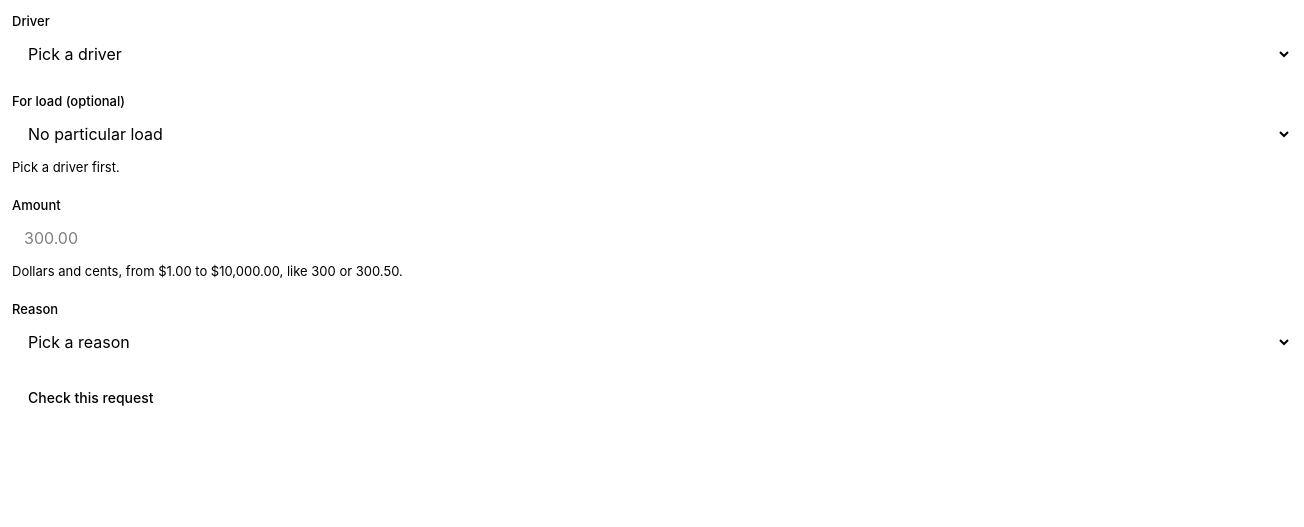
Test: sending an advance request › stays on the form with a plain sentence when the request is refused, and shows no toast
Select "BR-D01, Ann Example" in the dropdown labelled "Driver" at (652, 54), box [12,36,1292,72]
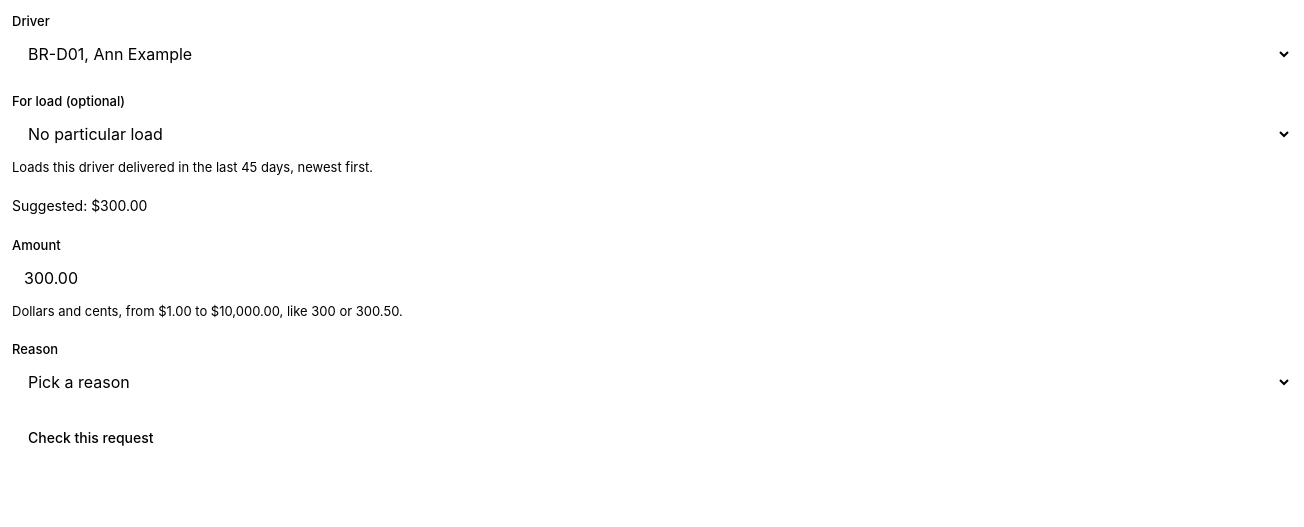
Check: the field labelled "Amount" holds "300.00", box [12,260,1292,296]
Select "Fuel" in the dropdown labelled "Reason" at (652, 382), box [12,364,1292,400]
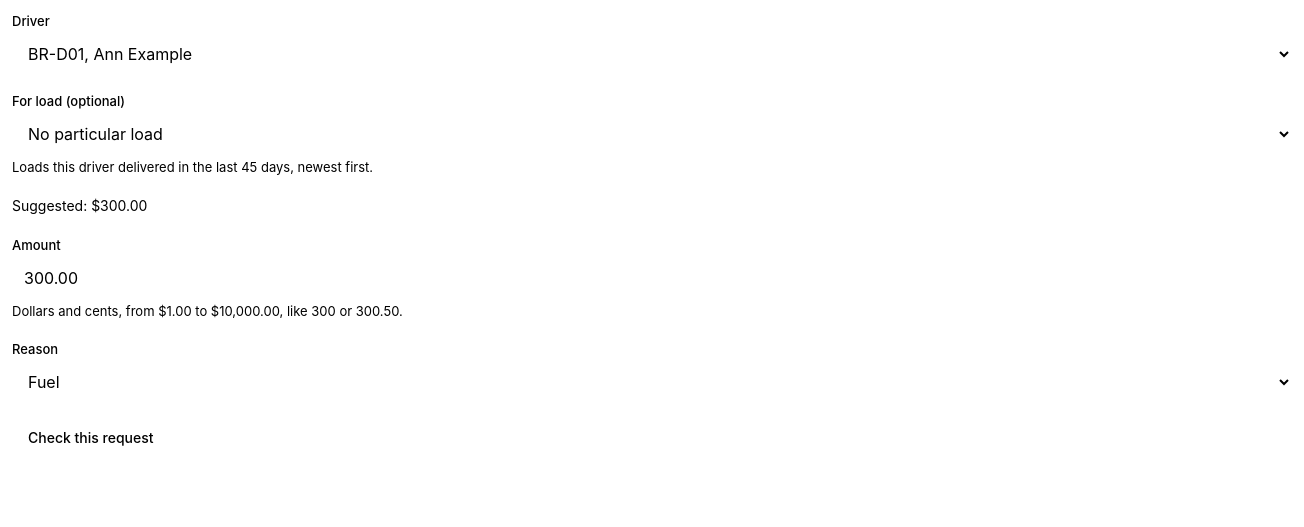
Click the button "Check this request" at (91, 438), box [12,420,170,456]
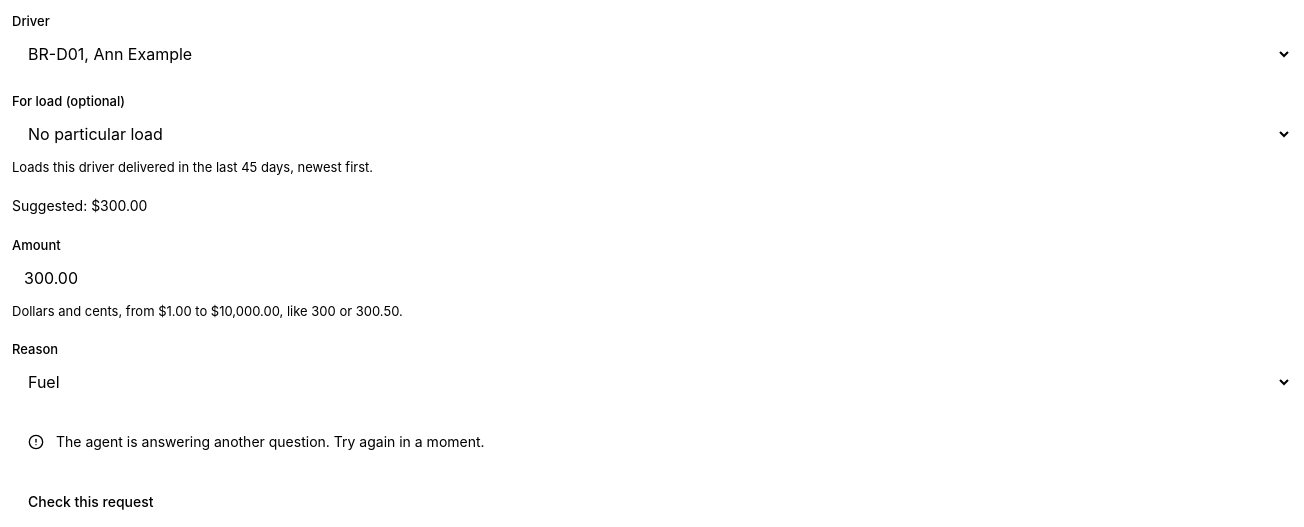
Check: the text "The agent is answering another question. Try again in a moment." is shown, box [56,433,485,450]
